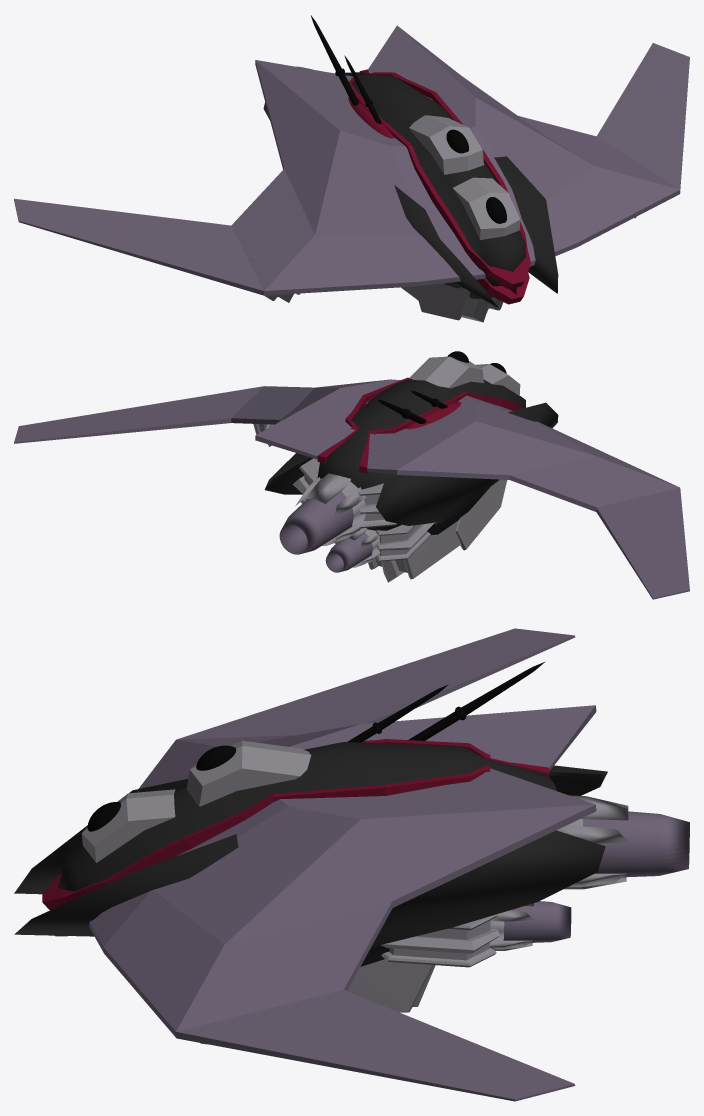
File: _dronerigged (1).fbx
3 renders of one model, top to bottom at view 1: azimuth 30°, elevation 25°; view 2: azimuth 150°, elevation 25°; view 3: azimuth 270°, elevation 25°, orthographic. The views are drawn at different scales.
Visible parts, largest first — view 1: Cube.231, Cube.123, Cube.252, Cube.228, Cube.227, Cube.232, Cone.003, Cube.253; view 2: Cube.231, Cube.123, Cylinder.115, Cube.235, Cube.230, Cube.252, Cube.228, Cube.232, Cube.238, Cylinder.114, Cube.236, Cube.227 (+3 smaller); view 3: Cube.231, Cube.123, Cube.252, Cylinder.115, Cube.228, Cube.239, Cube.227, Cube.235, Cube.230, Cylinder.114, Cone.003, Cube.229 (+1 smaller).
Part boxes in pixels (<box>): Cube.231: <box>14,25,689,295</box>; Cube.123: <box>263,72,558,307</box>; Cube.252: <box>349,69,530,289</box>; Cube.228: <box>409,115,483,174</box>; Cube.227: <box>453,177,520,239</box>; Cube.232: <box>414,283,503,322</box>; Cone.003: <box>311,15,359,105</box>; Cube.253: <box>476,278,518,304</box>; Cube.231: <box>14,379,689,599</box>; Cube.123: <box>264,379,558,535</box>; Cylinder.115: <box>279,483,353,554</box>; Cube.235: <box>368,520,461,582</box>; Cube.230: <box>295,473,366,545</box>; Cube.252: <box>317,377,522,473</box>; Cube.228: <box>409,356,483,388</box>; Cube.232: <box>455,479,507,550</box>; Cube.238: <box>375,522,434,561</box>; Cylinder.114: <box>325,532,372,572</box>; Cube.236: <box>358,483,396,528</box>; Cube.227: <box>476,364,520,395</box>; Cube.231: <box>89,628,596,1101</box>; Cube.123: <box>14,742,607,966</box>; Cube.252: <box>42,739,549,910</box>; Cylinder.115: <box>583,811,689,877</box>; Cube.228: <box>186,740,311,806</box>; Cube.239: <box>380,914,499,967</box>; Cube.227: <box>81,789,175,862</box>; Cube.235: <box>347,959,435,1012</box>; Cube.230: <box>560,795,628,889</box>; Cylinder.114: <box>503,901,571,942</box>; Cone.003: <box>408,661,545,740</box>; Cube.229: <box>490,903,533,950</box>.
Size of the model in its own units: 685 by 229 by 416.
